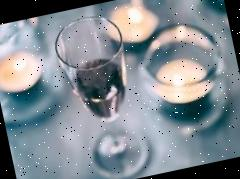glass: (50, 9, 157, 179)
